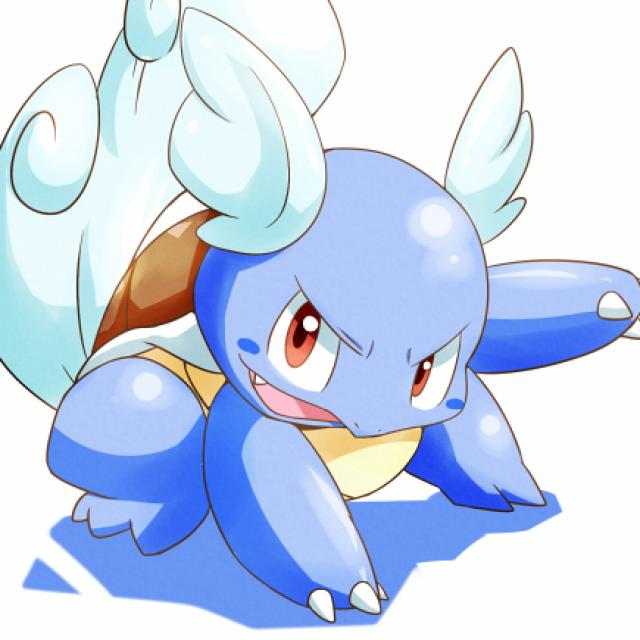Wartortle: (46, 46, 536, 566)
